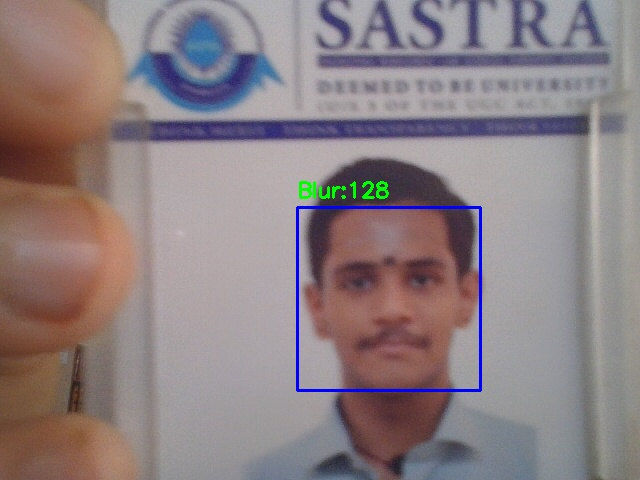fake: (297, 207, 480, 390)
